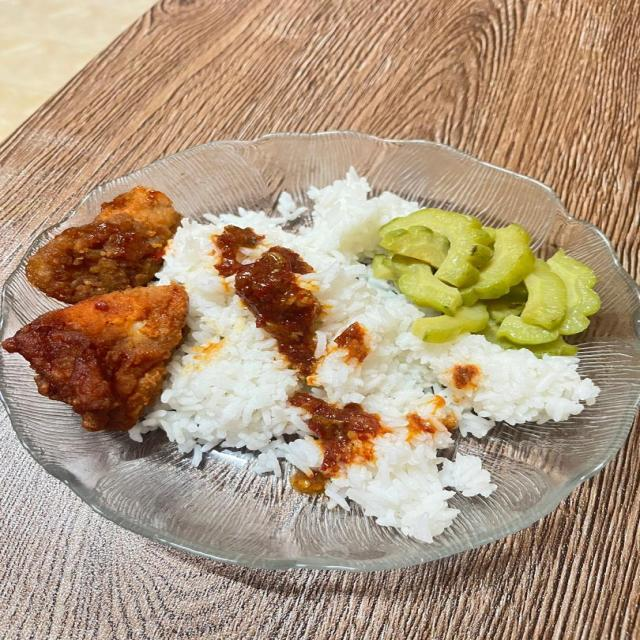Chicken: (9, 189, 192, 440)
Plate: (0, 132, 634, 567)
Rice: (113, 173, 613, 547)
Vegetables: (353, 204, 603, 359)
